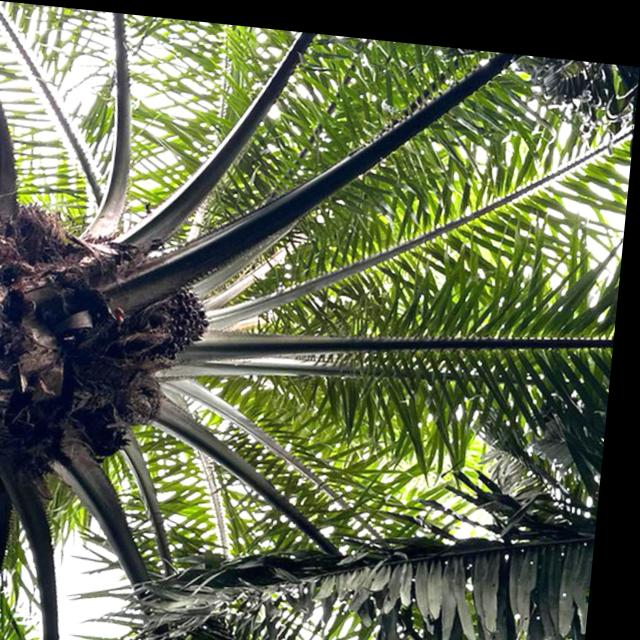ripe: (142, 275, 231, 362)
